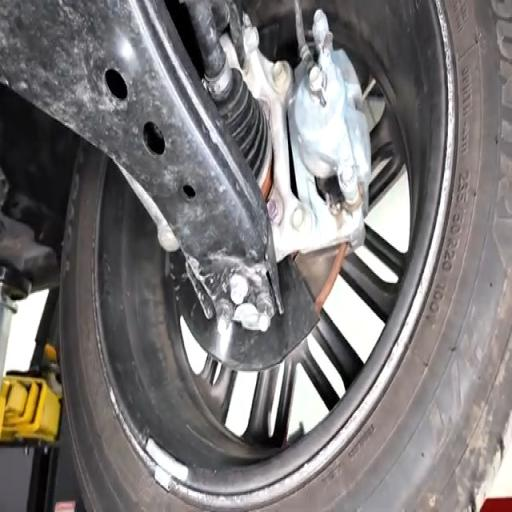tire: (268, 0, 511, 510)
wheel: (60, 0, 511, 510)
